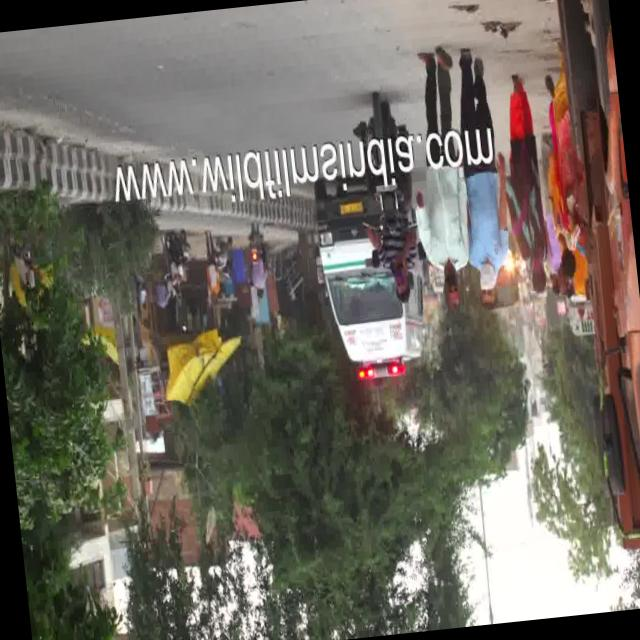ambulance: (308, 188, 425, 384)
